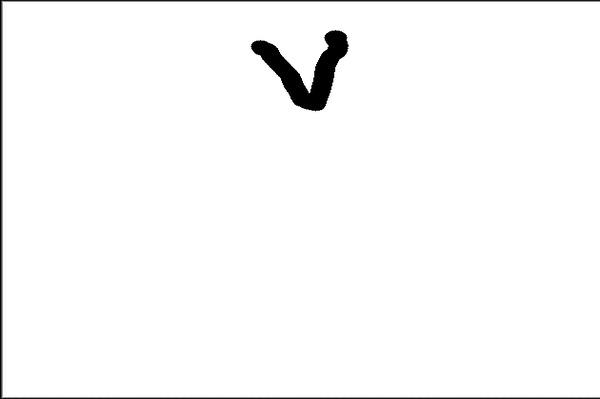V: (247, 29, 360, 116)
